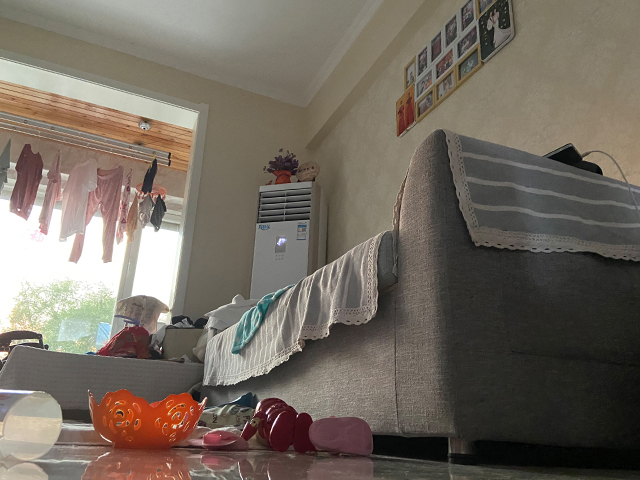sofa: (201, 128, 640, 460), (2, 346, 204, 412)
